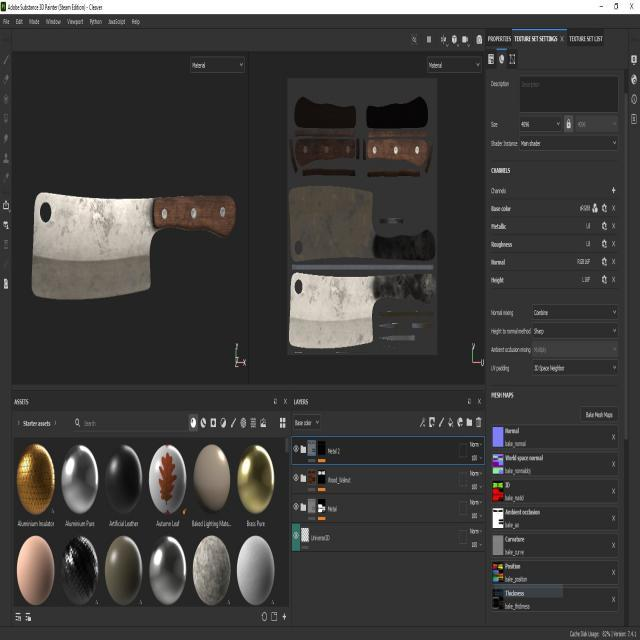cleaver: (28, 185, 240, 306)
